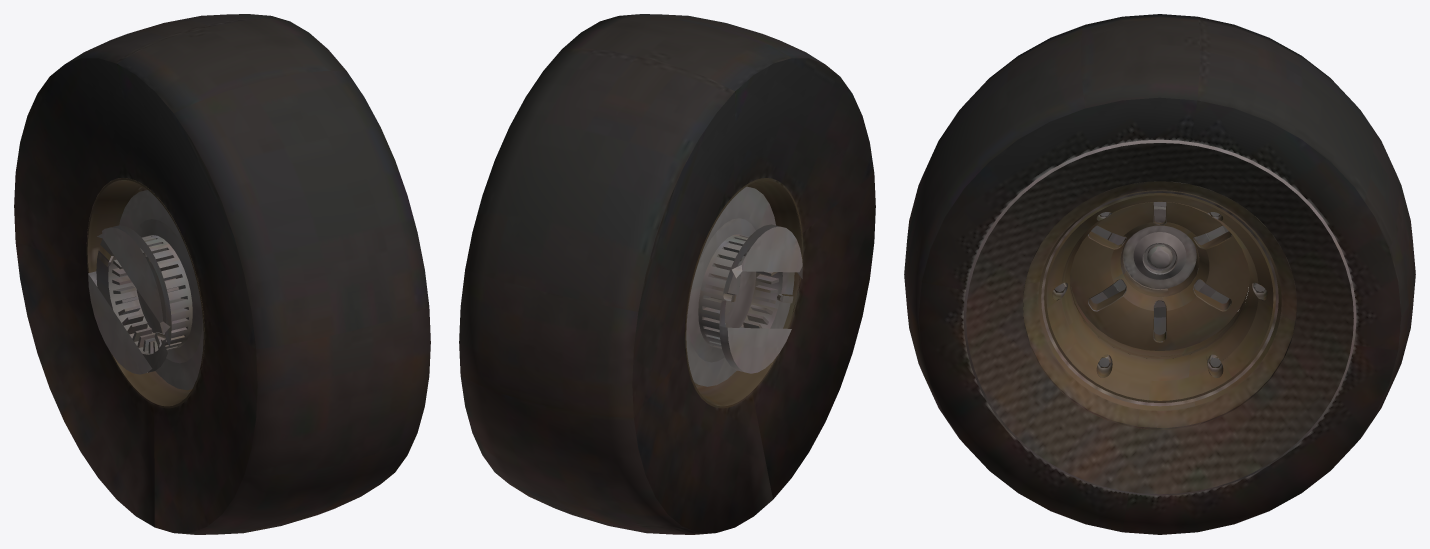
The model's file is buggy_wheel_rear.glb.
3 renders of one model, left to right at view 1: azimuth 30°, elevation 25°; view 2: azimuth 150°, elevation 25°; view 3: azimuth 270°, elevation 25°, orthographic.
Visible parts, largest first — view 1: buggy_wheel_rear; view 2: buggy_wheel_rear; view 3: buggy_wheel_rear.
Boxes of the visible parts, x1,y1,x2,y2 form: buggy_wheel_rear: [14, 14, 430, 534]; buggy_wheel_rear: [459, 14, 875, 534]; buggy_wheel_rear: [904, 14, 1415, 534].
Bounding box in the file's own units: 0.3586 × 0.8506 × 0.8506.
Materials: 1 (1 with a texture image).
